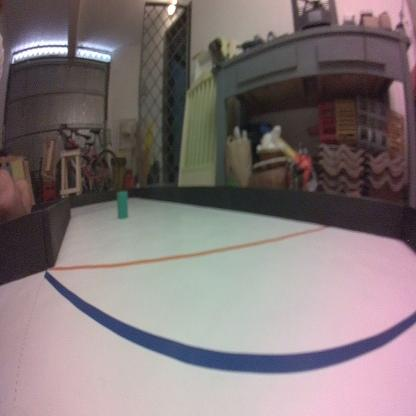green: (116, 190, 129, 218)
